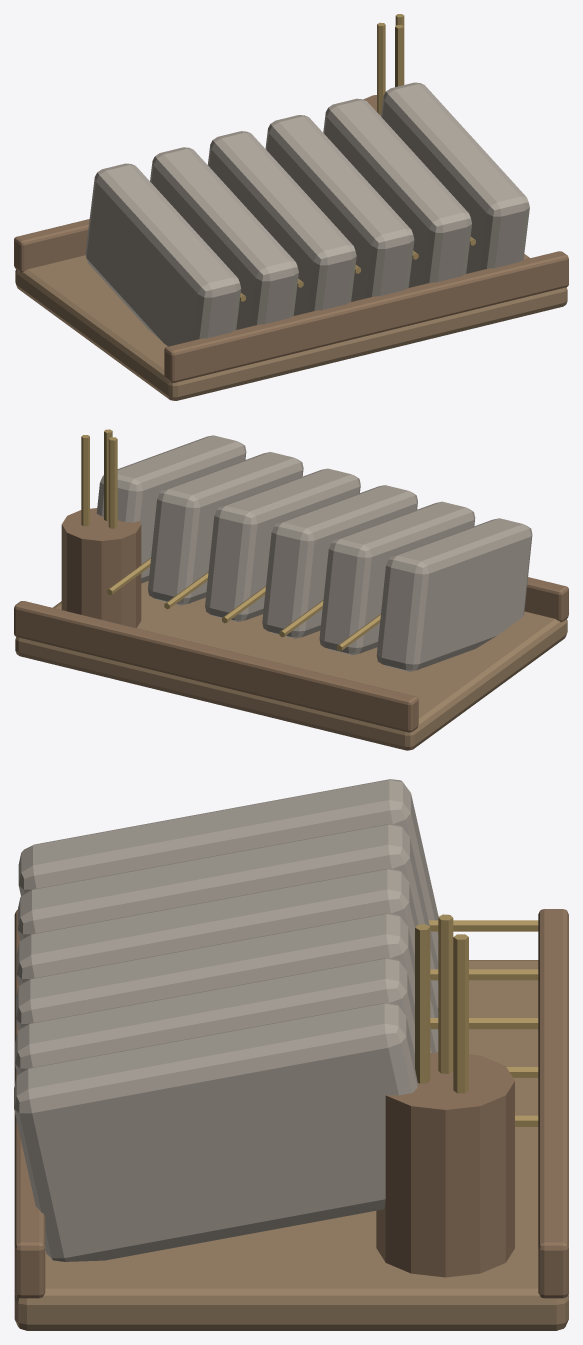
3 views of the same model, one above another, from view 1: azimuth 30°, elevation 25°; view 2: azimuth 150°, elevation 25°; view 3: azimuth 270°, elevation 25° (orthographic). The views are drawn at different scales.
Parts seen in each view (by area): view 1: dishDrainer; view 2: dishDrainer; view 3: dishDrainer.
Part boxes in pixels (box(x1,y1,x2,y2)): dishDrainer: box(14, 14, 568, 400); dishDrainer: box(14, 429, 568, 750); dishDrainer: box(14, 779, 568, 1330).
Size of the model in its own units: 0.52 by 0.26 by 0.3604.
